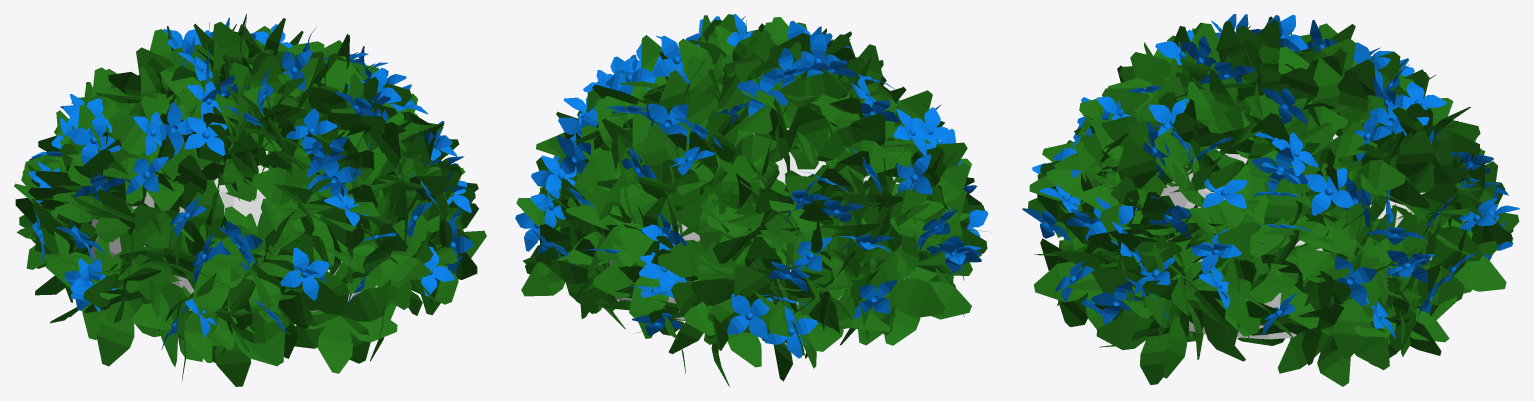
File: bush.fbx
3 renders of one model, left to right at view 1: azimuth 30°, elevation 25°; view 2: azimuth 150°, elevation 25°; view 3: azimuth 270°, elevation 25°, orthographic. The views are drawn at different scales.
Visible parts, largest first — view 1: bush|leaf|Dupli|296, bush|leaf|Dupli|72, bush|leaf|Dupli|148, bush|leaf|Dupli|215, bush|leaf|Dupli|210, bush|leaf|Dupli|140, bush|leaf|Dupli|7, bush|leaf|Dupli|21, bush|leaf|Dupli|188, bush, bush|leaf|Dupli|191, bush|leaf|Dupli|264 (+115 smaller); view 2: bush|leaf|Dupli|261, bush|leaf|Dupli|114, bush|leaf|Dupli|88, bush|leaf|Dupli|109, bush|leaf|Dupli|42, bush|leaf|Dupli|8, bush|leaf|Dupli|275, bush|leaf|Dupli|171, bush|leaf|Dupli|94, bush|leaf|Dupli|285, bush|leaf|Dupli|154, bush|leaf|Dupli|50 (+118 smaller); view 3: bush|leaf|Dupli|220, bush|leaf|Dupli|259, bush|leaf|Dupli|76, bush|leaf|Dupli|84, bush|leaf|Dupli|155, bush|leaf|Dupli|93, bush|leaf|Dupli|293, bush|leaf|Dupli|40, bush|leaf|Dupli|205, bush|leaf|Dupli|66, bush|leaf|Dupli|166, bush|leaf|Dupli|286 (+118 smaller).
Part boxes in pixels (x1,y1,x2,y2): bush|leaf|Dupli|296: (295, 271, 397, 363); bush|leaf|Dupli|72: (307, 310, 397, 373); bush|leaf|Dupli|148: (178, 311, 289, 386); bush|leaf|Dupli|215: (252, 137, 318, 240); bush|leaf|Dupli|210: (125, 205, 191, 293); bush|leaf|Dupli|140: (334, 219, 427, 309); bush|leaf|Dupli|7: (168, 179, 265, 289); bush|leaf|Dupli|21: (193, 206, 280, 322); bush|leaf|Dupli|188: (87, 279, 161, 366); bush: (90, 151, 377, 311); bush|leaf|Dupli|191: (215, 201, 303, 288); bush|leaf|Dupli|264: (345, 217, 431, 294); bush|leaf|Dupli|261: (858, 233, 945, 345); bush|leaf|Dupli|114: (790, 105, 879, 161); bush|leaf|Dupli|88: (884, 234, 971, 345); bush|leaf|Dupli|109: (675, 155, 759, 250); bush|leaf|Dupli|42: (658, 193, 722, 280); bush|leaf|Dupli|8: (618, 226, 688, 317); bush|leaf|Dupli|275: (576, 98, 629, 188); bush|leaf|Dupli|171: (596, 182, 658, 260); bush|leaf|Dupli|94: (835, 243, 902, 335); bush|leaf|Dupli|285: (683, 301, 761, 367); bush|leaf|Dupli|154: (708, 264, 798, 341); bush|leaf|Dupli|50: (703, 124, 776, 214); bush|leaf|Dupli|220: (1096, 280, 1195, 384); bush|leaf|Dupli|259: (1303, 236, 1414, 359); bush|leaf|Dupli|76: (1278, 284, 1350, 386); bush|leaf|Dupli|84: (1217, 178, 1299, 284); bush|leaf|Dupli|155: (1254, 244, 1350, 298); bush|leaf|Dupli|93: (1391, 182, 1482, 261); bush|leaf|Dupli|293: (1237, 300, 1343, 345); bush|leaf|Dupli|40: (1329, 121, 1405, 217); bush|leaf|Dupli|205: (1144, 293, 1203, 378); bush|leaf|Dupli|66: (1167, 268, 1245, 361); bush|leaf|Dupli|166: (1423, 219, 1506, 319); bush|leaf|Dupli|286: (1395, 130, 1468, 192).
Size of the model in its own units: 2.17 by 1.37 by 2.17.
